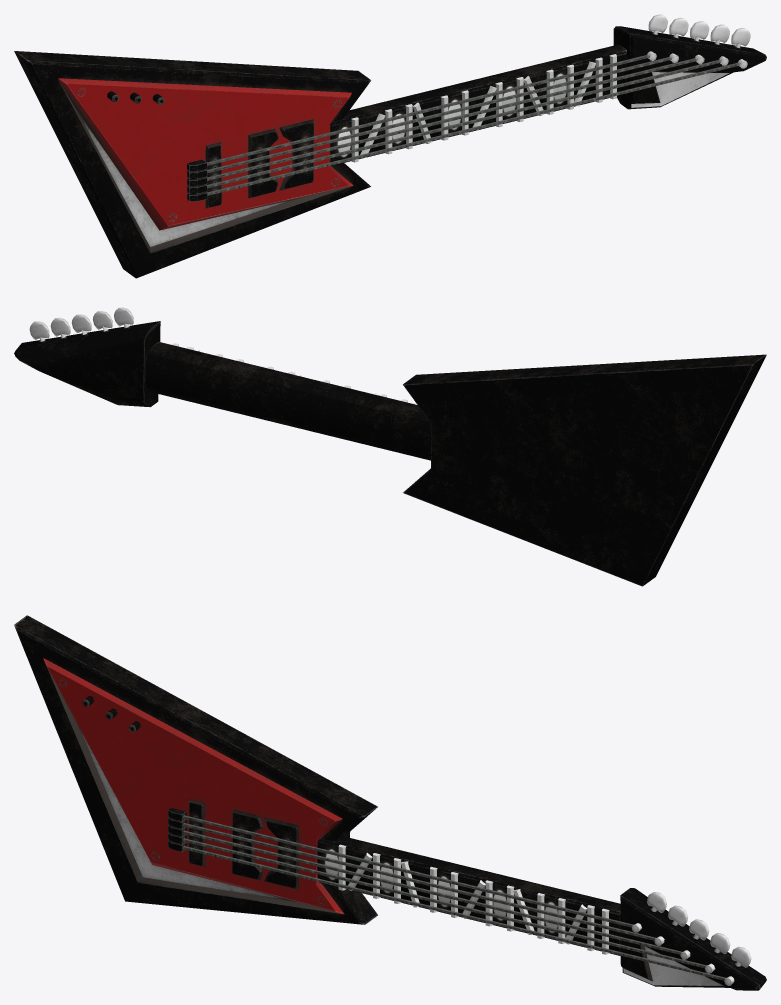
The model's file is Bonnie_Guitar.obj.
3 views of the same model, one above another, from view 1: azimuth 30°, elevation 25°; view 2: azimuth 150°, elevation 25°; view 3: azimuth 330°, elevation 25° (orthographic).
Parts seen in each view (by area): view 1: g0; view 2: g0; view 3: g0.
Part boxes in pixels (bbox=[...]): g0: bbox=[14, 14, 766, 278]; g0: bbox=[14, 307, 766, 586]; g0: bbox=[14, 615, 766, 990].
Bounding box in the file's own units: 1.63 × 0.518 × 0.0866.
Materials: 3 (3 with a texture image).
